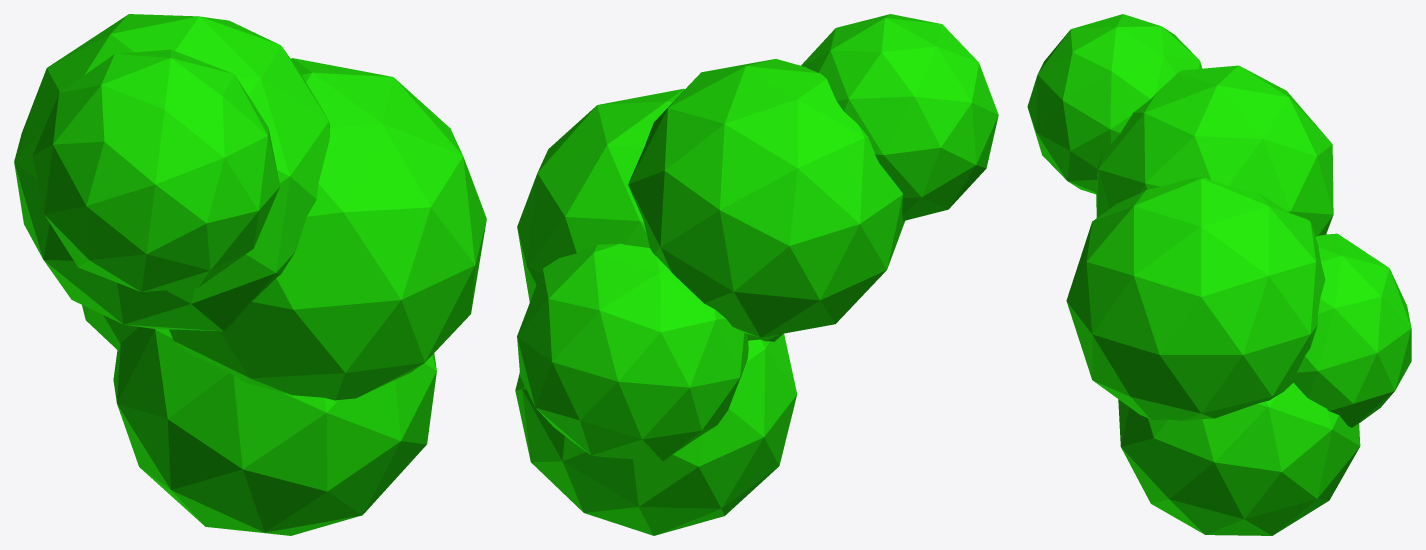
File: bush 1.fbx
3 views of the same model, side by side, from view 1: azimuth 30°, elevation 25°; view 2: azimuth 150°, elevation 25°; view 3: azimuth 270°, elevation 25° (orthographic). The views are drawn at different scales.
Visible parts, largest first — view 1: Icosphere.005; view 2: Icosphere.005; view 3: Icosphere.005.
Part boxes in pixels (<box>): Icosphere.005: <box>14,14,486,535</box>; Icosphere.005: <box>515,14,998,535</box>; Icosphere.005: <box>1027,14,1411,535</box>.
Size of the model in its own units: 298 by 352 by 285.
